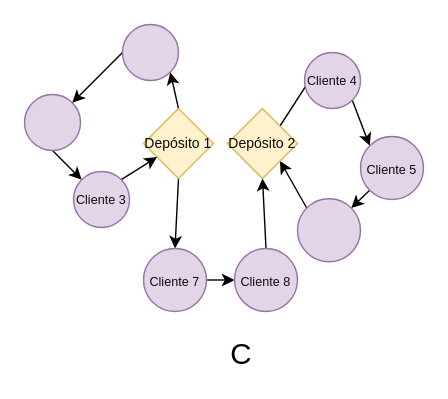
This 448x399 diagram has some shape labels left out. The centre of each missing label's shape, as x and y in pixels:
Cliente 1: point (149, 51)
Cliente 2: point (51, 121)
Cliente 6: point (328, 229)
